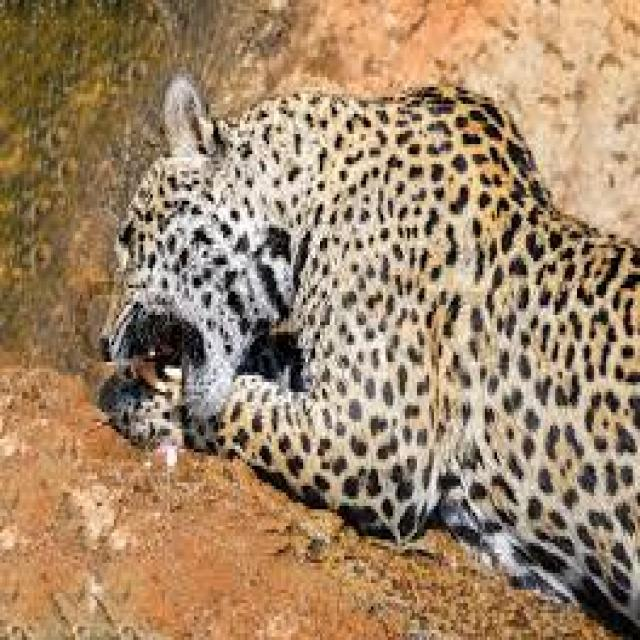Jaguar: (109, 70, 640, 616)
